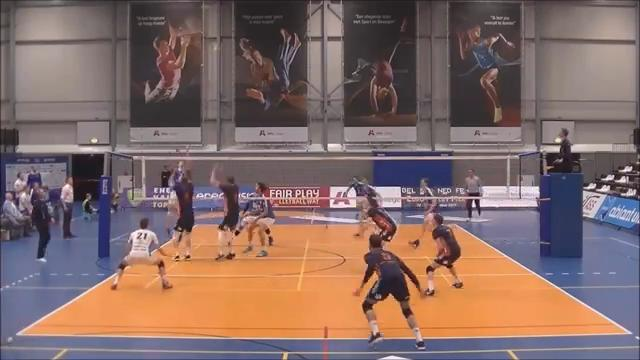Attack: (162, 149, 187, 222)
Player: (354, 234, 424, 349), (111, 218, 172, 289), (425, 214, 462, 295), (234, 182, 274, 256), (210, 164, 239, 260), (345, 176, 378, 236), (409, 178, 437, 248), (173, 171, 194, 260), (253, 182, 274, 256), (367, 196, 397, 243), (165, 189, 178, 236)
